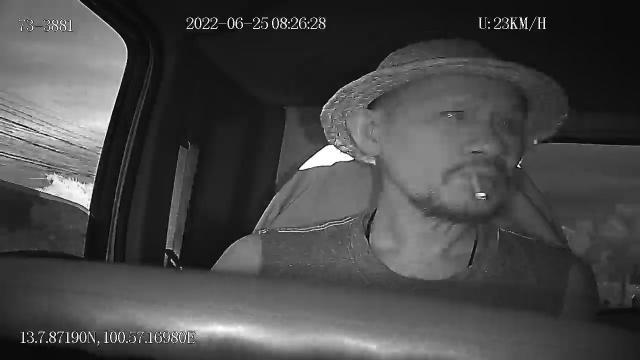SafeDriving: (434, 98, 472, 126)
Smoking: (467, 169, 485, 201)
